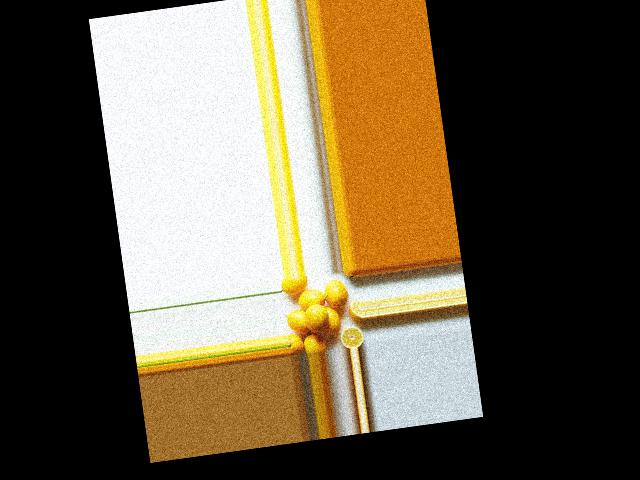lemon: (302, 332, 325, 354)
